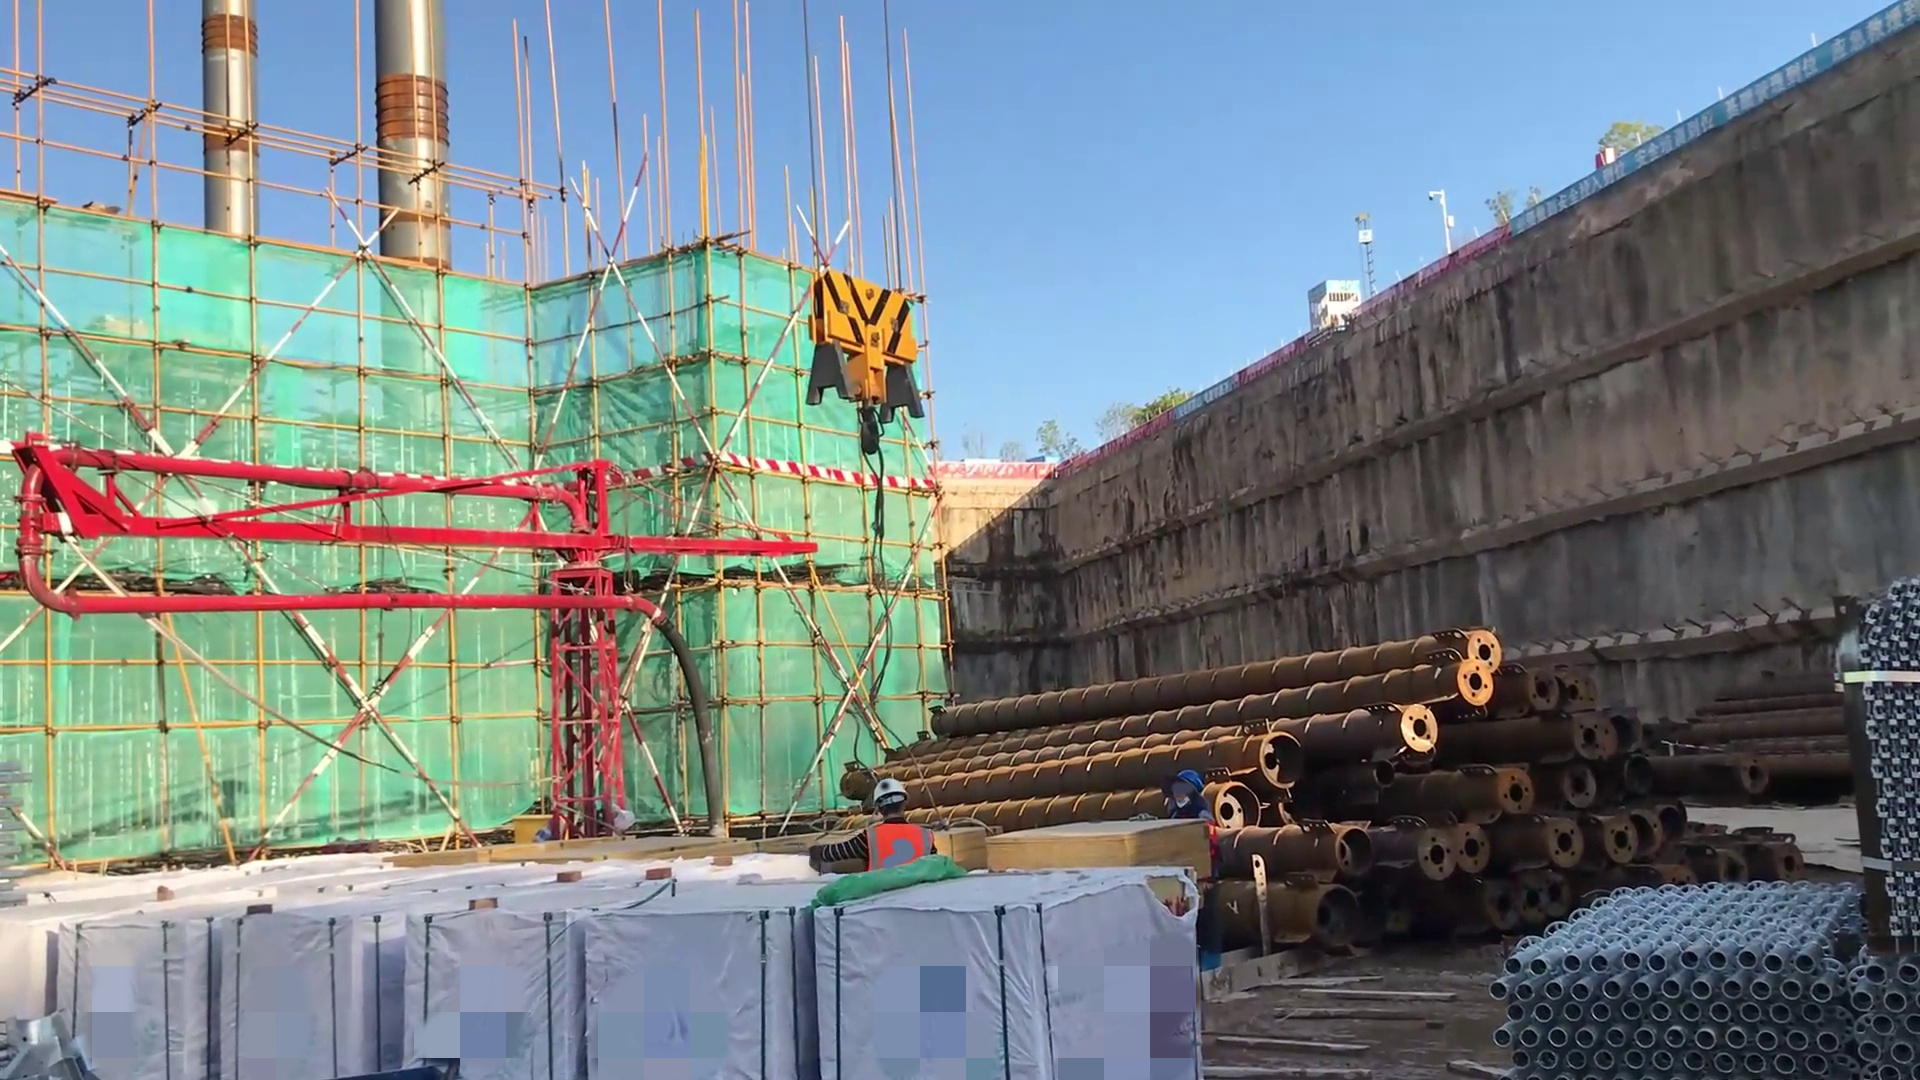board: (981, 822, 1215, 904), (934, 828, 1004, 875)
ebox: (501, 802, 568, 867)
helmet: (866, 773, 916, 826), (1159, 766, 1208, 820)
hook: (811, 248, 936, 481)
person: (1137, 774, 1230, 980), (807, 780, 949, 879)
scaffold: (1494, 867, 1900, 1080), (1863, 572, 1920, 1059)
slogan: (1497, 2, 1920, 248), (1176, 369, 1251, 427)
vest: (847, 824, 943, 888)
